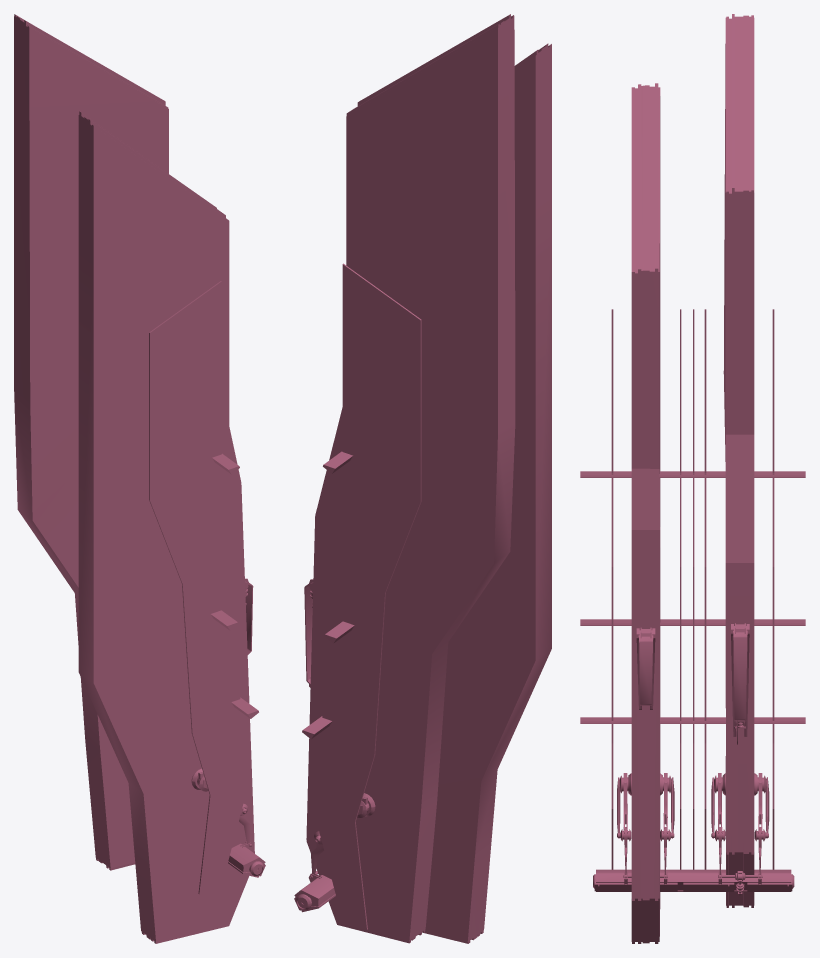
Rendered from combine_wall.fbx.
3 renders of one model, left to right at view 1: azimuth 30°, elevation 25°; view 2: azimuth 150°, elevation 25°; view 3: azimuth 270°, elevation 25°, orthographic. The views are drawn at different scales.
Visible parts, largest first — view 1: combine_wall:combine_wall; view 2: combine_wall:combine_wall; view 3: combine_wall:combine_wall.
Boxes of the visible parts, x1,y1,x2,y2 form: combine_wall:combine_wall: [14, 14, 265, 943]; combine_wall:combine_wall: [294, 14, 551, 943]; combine_wall:combine_wall: [580, 14, 805, 943].
Size of the model in its own units: 44.53 by 211 by 50.21.
